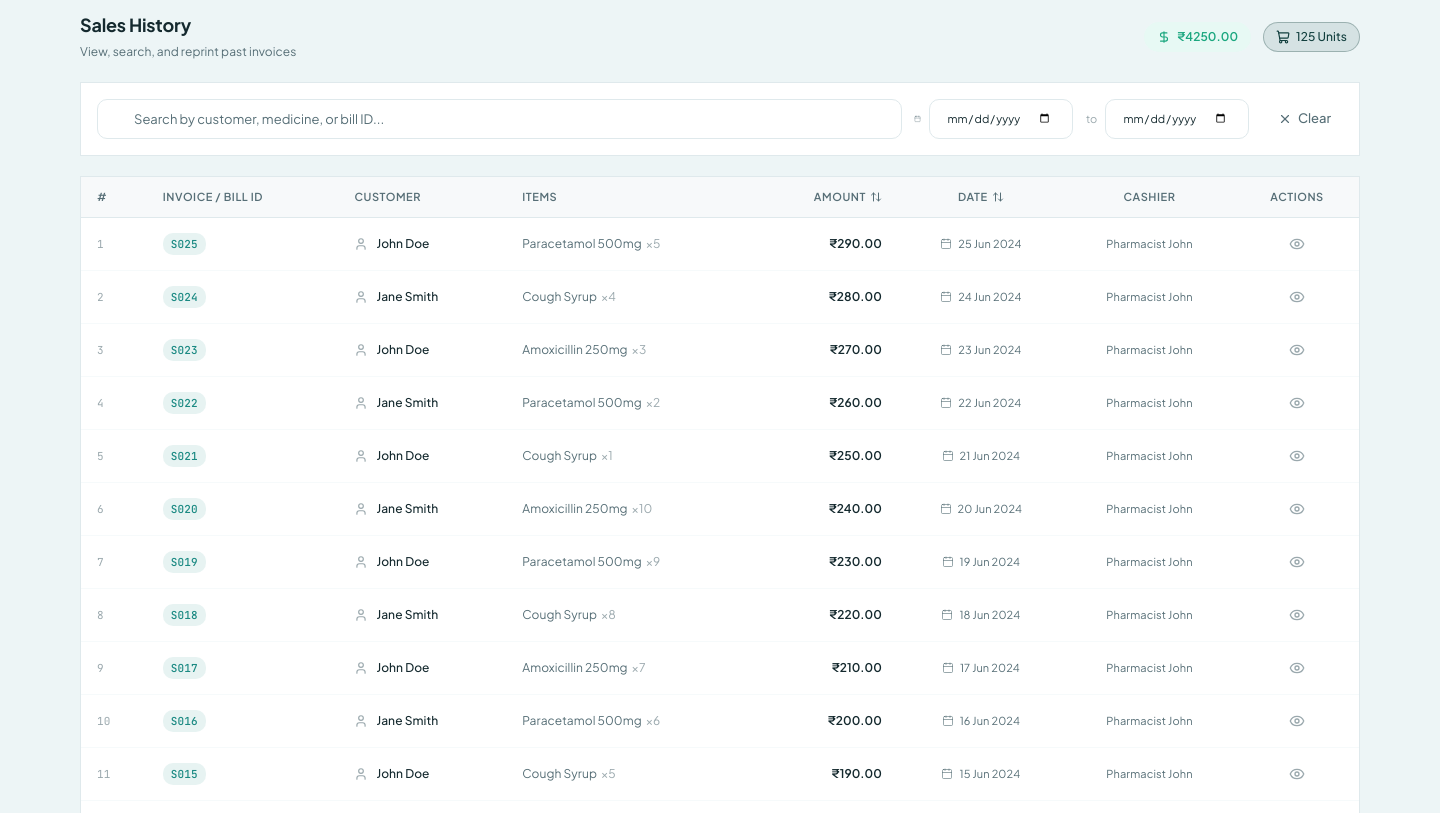
it: SalesHistory Component › Search & Filter › should filter sales by customer name
Expected: the text "John Doe" in the row of "S025" is shown, [376,236,430,251]
In the field with placeholder "Search by customer, medicine, or bill ID...": (500, 119) [97,99,902,139], type "Jane"
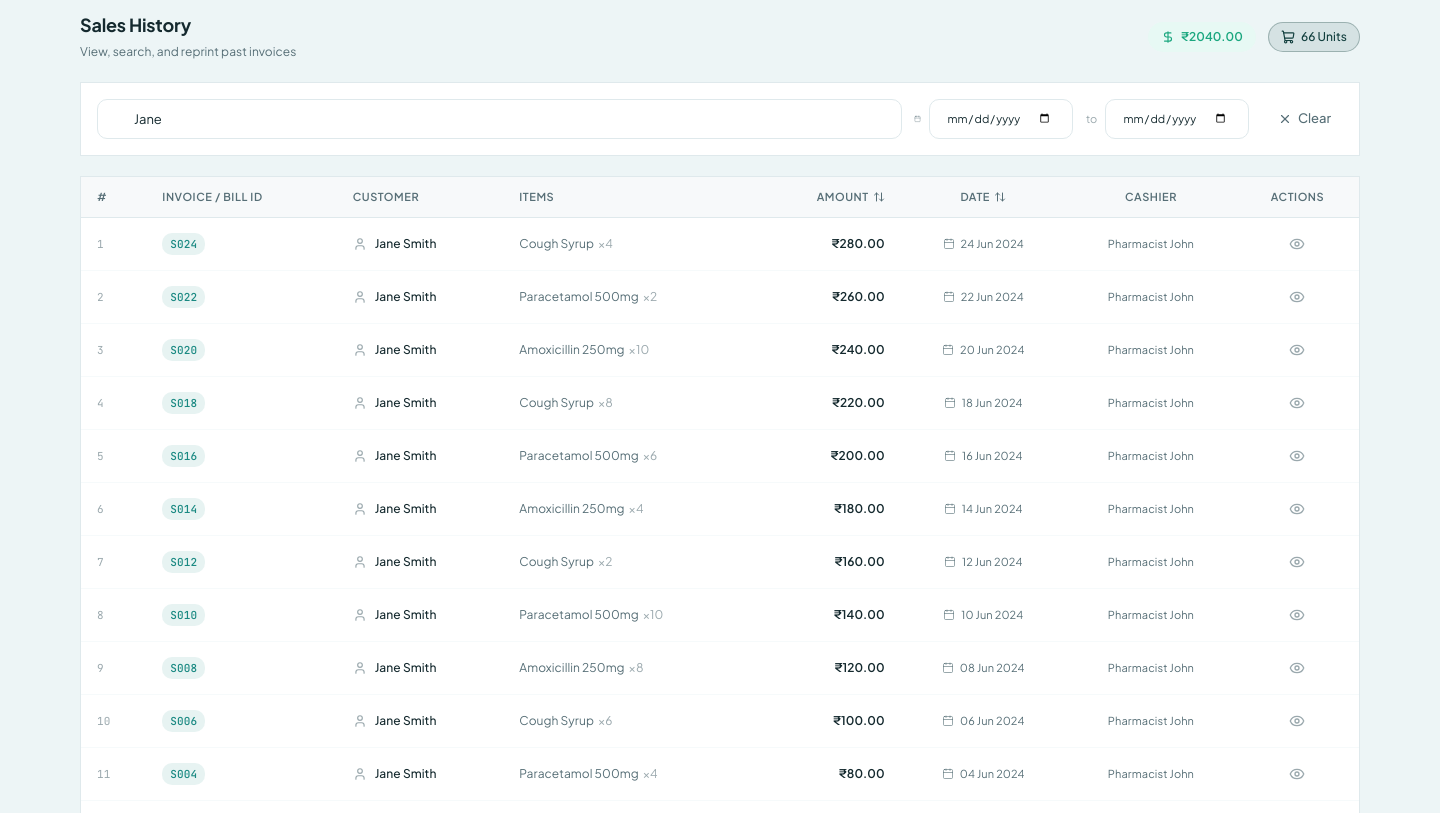
Now the text "John Doe" is not shown
